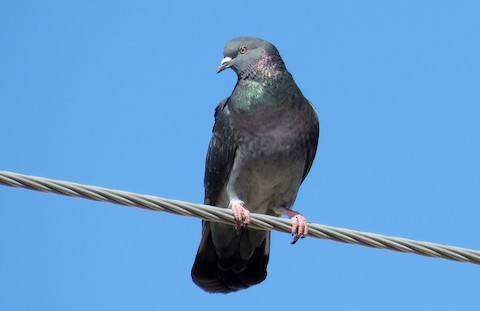pigeon: (188, 36, 321, 297)
